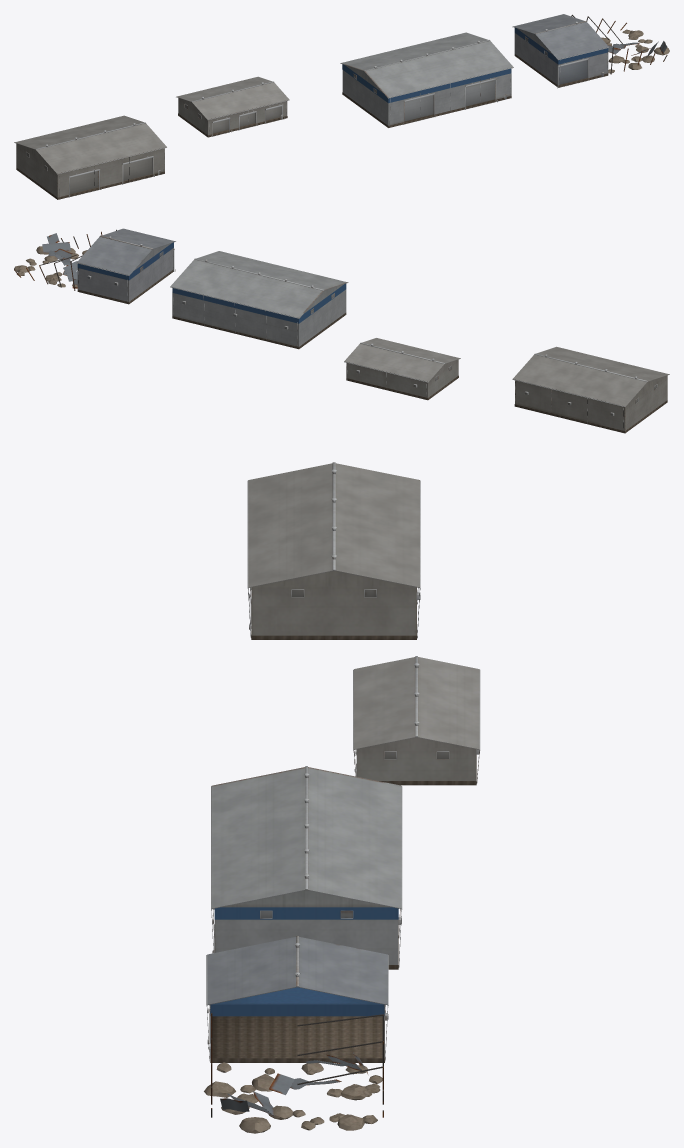
Rendered from port_sheds.glb.
3 renders of one model, top to bottom at view 1: azimuth 30°, elevation 25°; view 2: azimuth 150°, elevation 25°; view 3: azimuth 270°, elevation 25°, orthographic. The views are drawn at different scales.
Visible parts, largest first — view 1: sheds; view 2: sheds; view 3: sheds.
Boxes of the visible parts, x1=… form: sheds: x1=14, y1=14, x2=669, y2=199; sheds: x1=14, y1=228, x2=669, y2=433; sheds: x1=204, y1=462, x2=480, y2=1133.
Bounding box in the file's own units: 309 × 21.5 × 60.33.
Materials: 1 (1 with a texture image).
